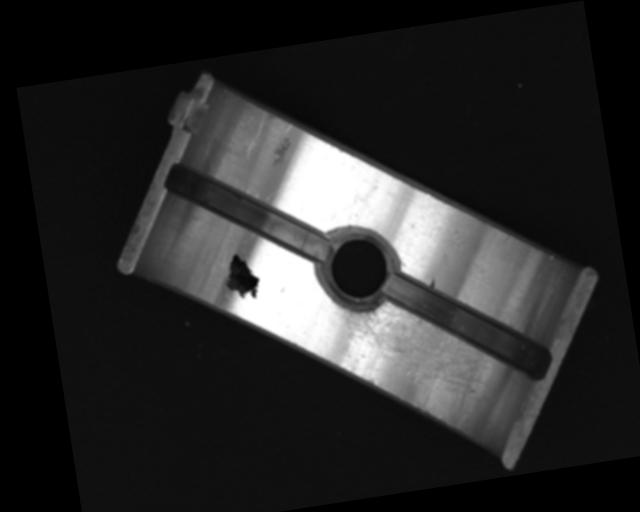blot: (220, 249, 262, 303)
bruise: (264, 136, 296, 170), (426, 276, 437, 290)
gap: (380, 252, 553, 398), (163, 145, 327, 280)
hole: (313, 226, 401, 312)
scratch: (336, 280, 496, 430)
